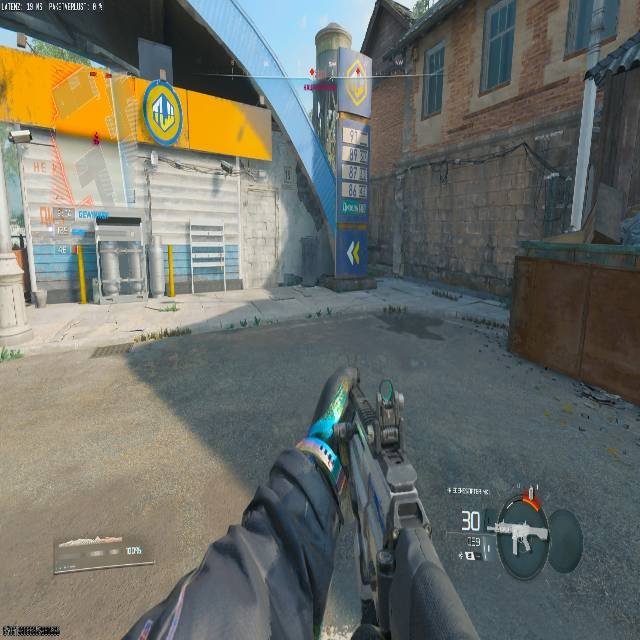player: (92, 132, 101, 145)
